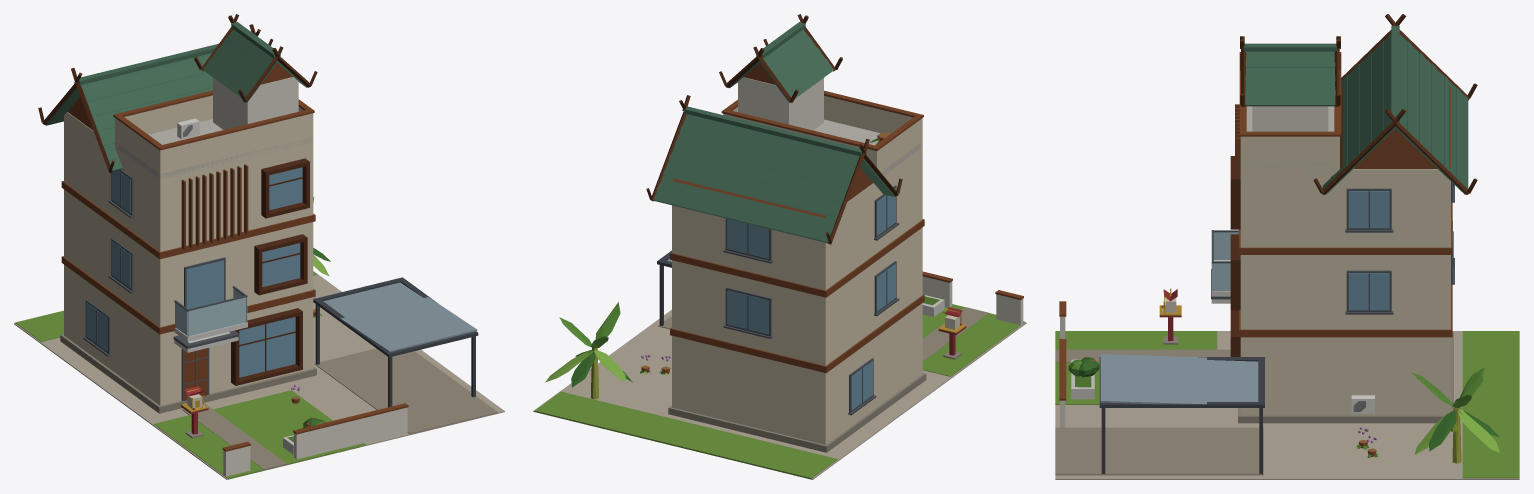
The model's file is house12_2.glb.
3 views of the same model, side by side, from view 1: azimuth 30°, elevation 25°; view 2: azimuth 150°, elevation 25°; view 3: azimuth 270°, elevation 25° (orthographic). The views are drawn at different scales.
Visible parts, largest first — view 1: body; view 2: body; view 3: body.
Part boxes in pixels (box(x1,y1,x2,y2)): body: box(14, 14, 504, 479); body: box(533, 14, 1026, 479); body: box(1055, 14, 1519, 479).
Bounding box in the file's own units: 12 × 14.1 × 15.9.
